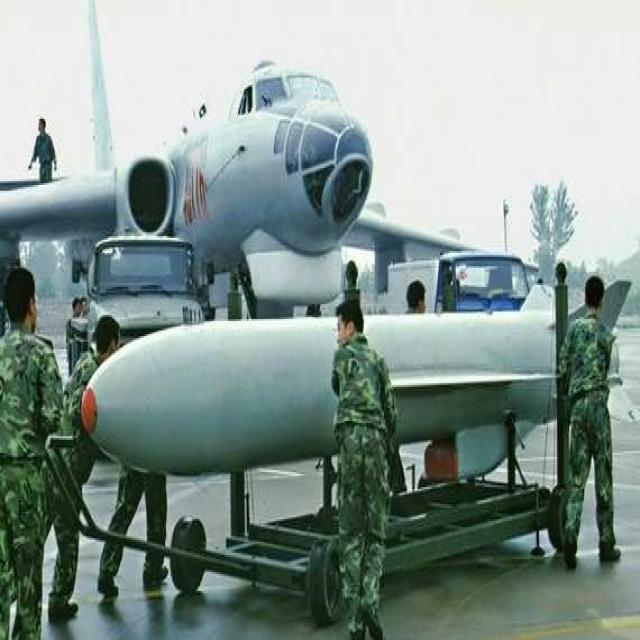missile: (80, 279, 629, 475)
